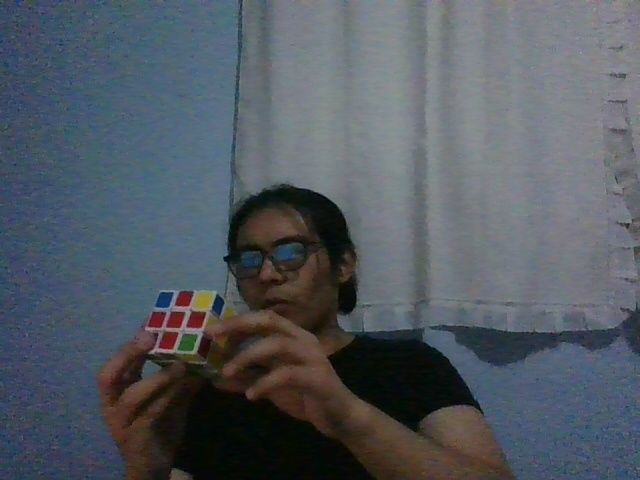rubik: (143, 289, 241, 383)
